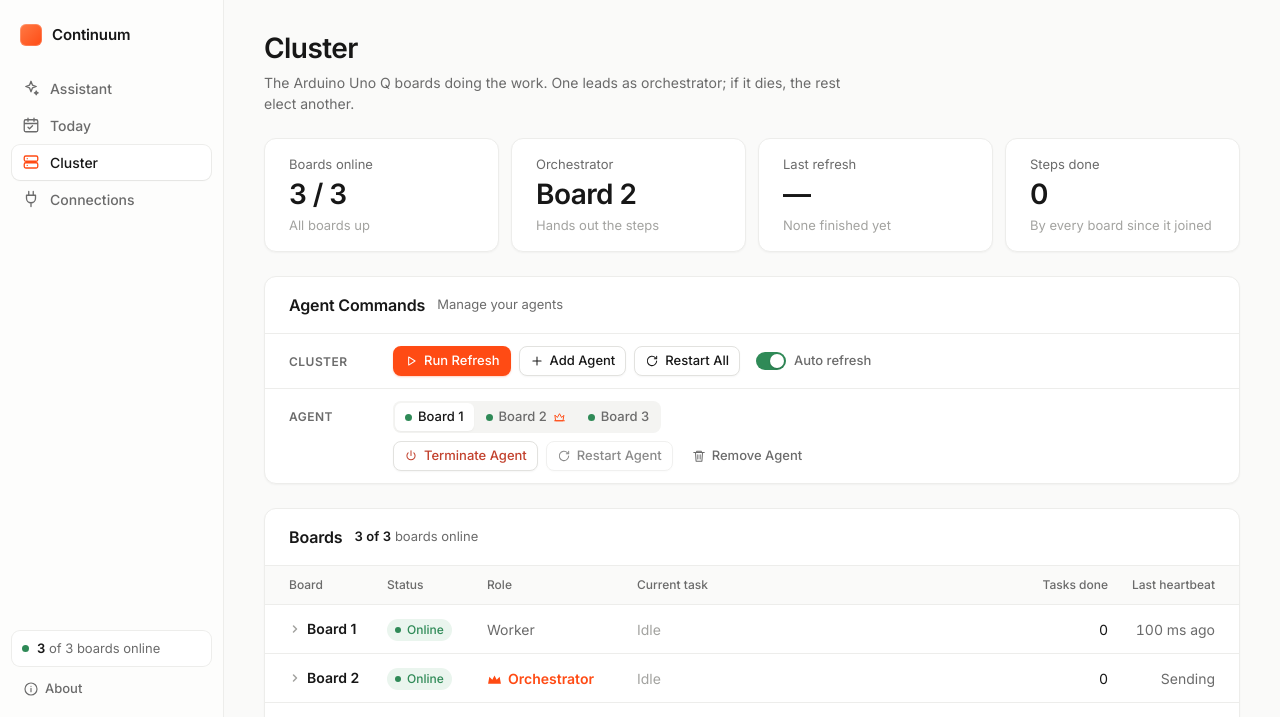
Agent Commands › says when the terminated agent was the orchestrator
Click the button "Board 2" below "Auto refresh" at (526, 417), box [476,403,576,431]
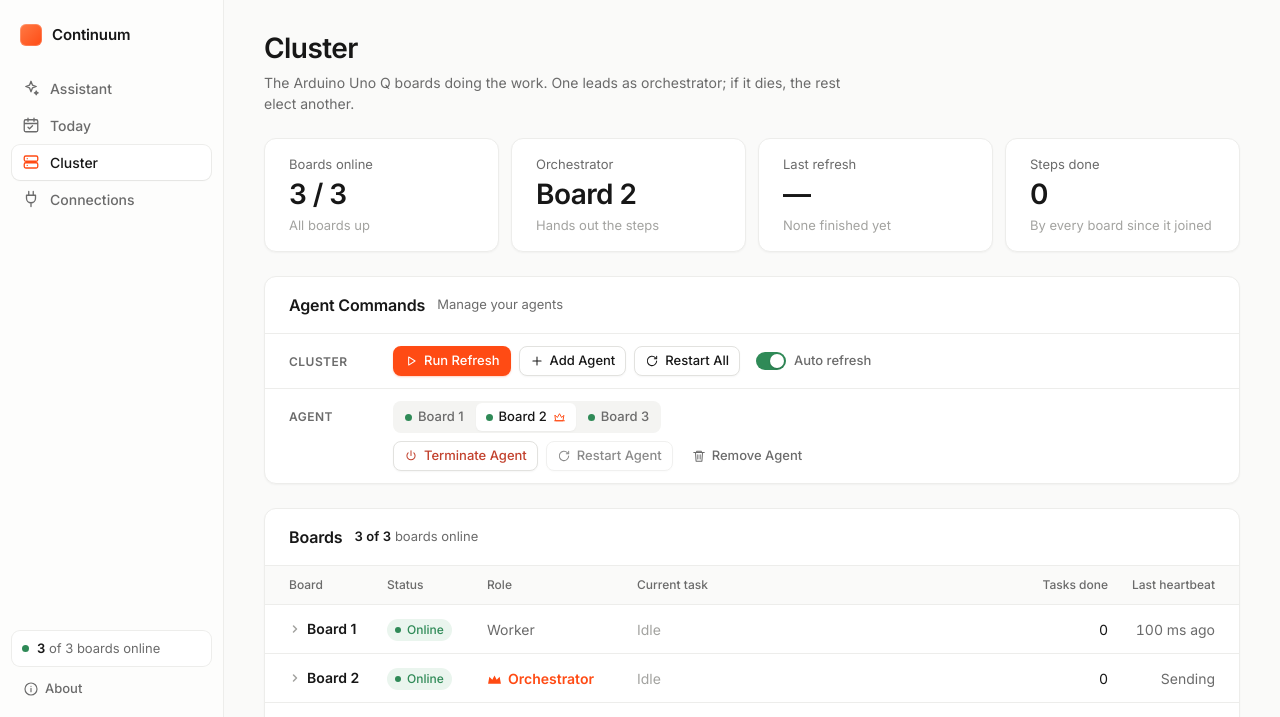
Click the button "Terminate Agent" at (465, 456), box [393,441,538,471]
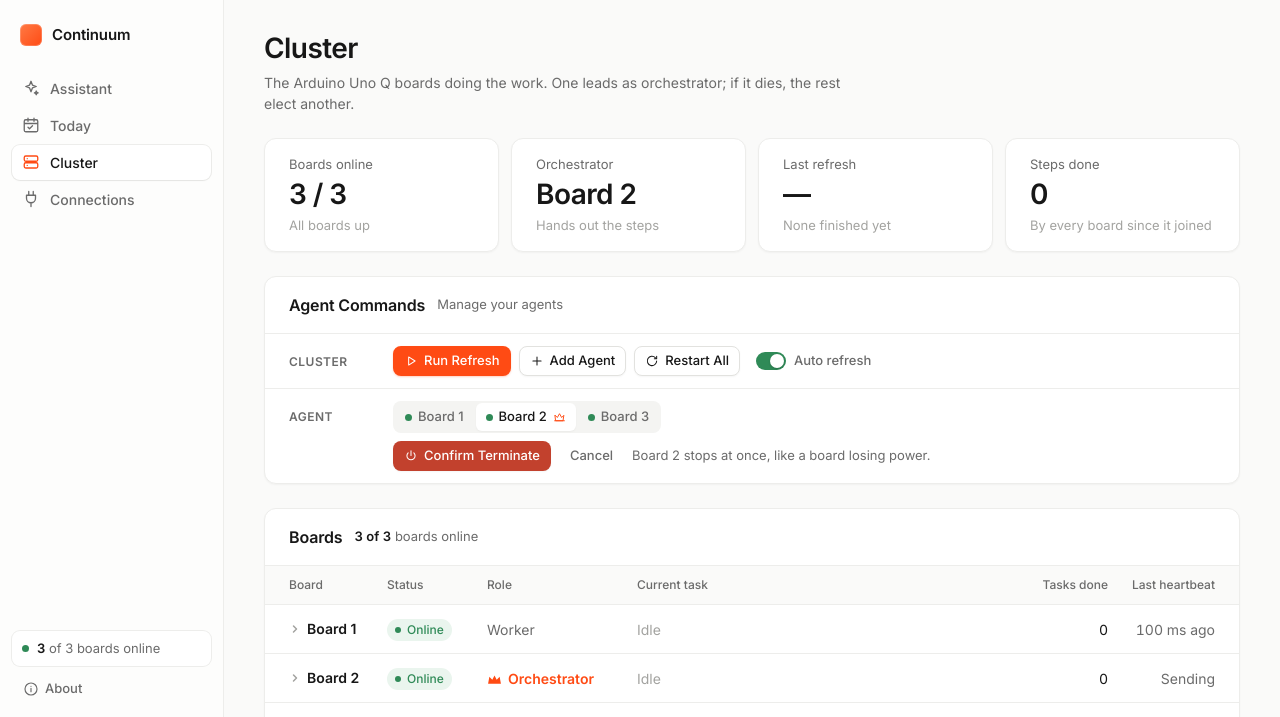
Click the button "Confirm Terminate" at (472, 456), box [393,441,551,471]
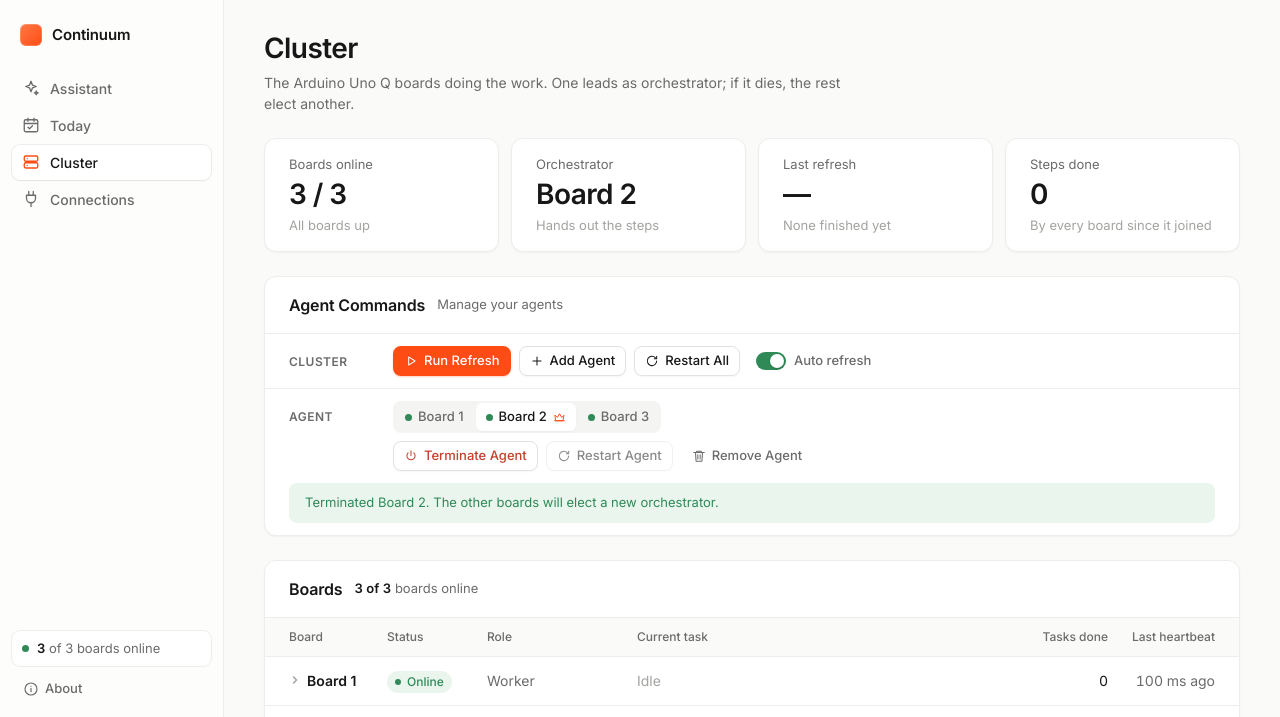
Result: the message reads "Terminated Board 2. The other boards will elect a new orchestrator." at [305,494,719,510]
